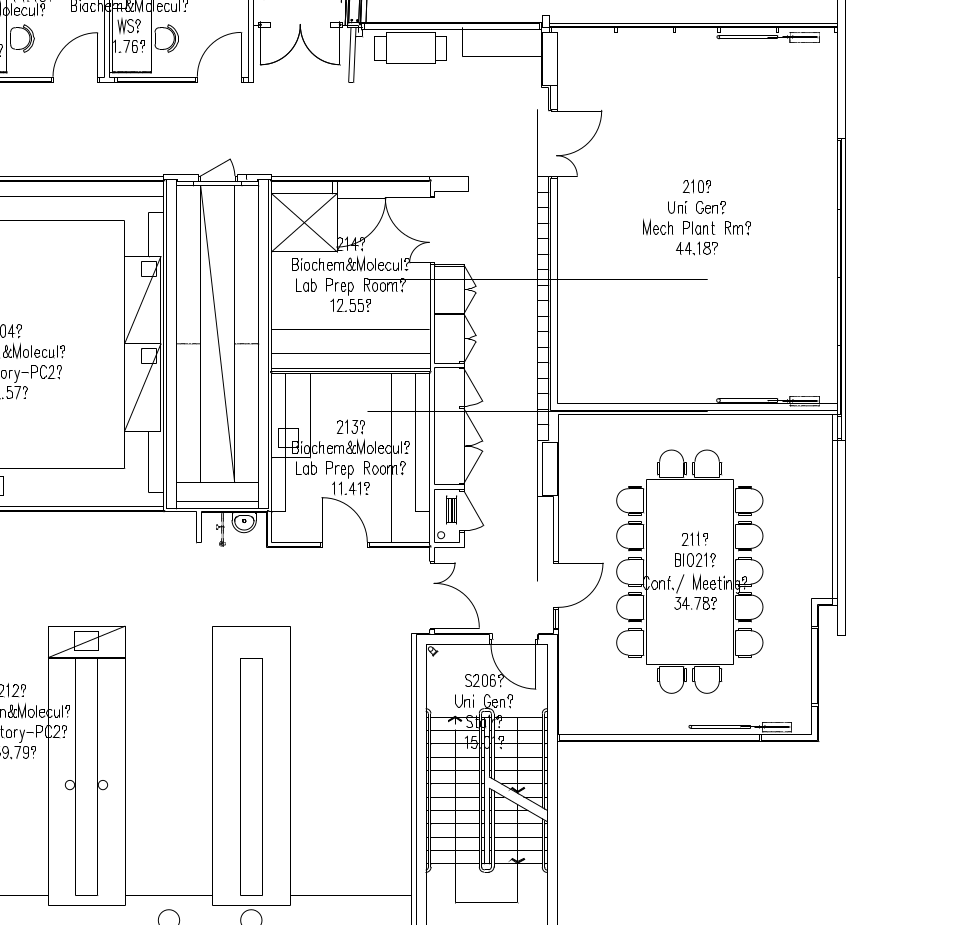door: (554, 103, 609, 181), (258, 23, 344, 72), (384, 194, 439, 266), (552, 550, 605, 614), (486, 639, 539, 703), (317, 492, 370, 556), (195, 29, 245, 82), (51, 29, 101, 82)
